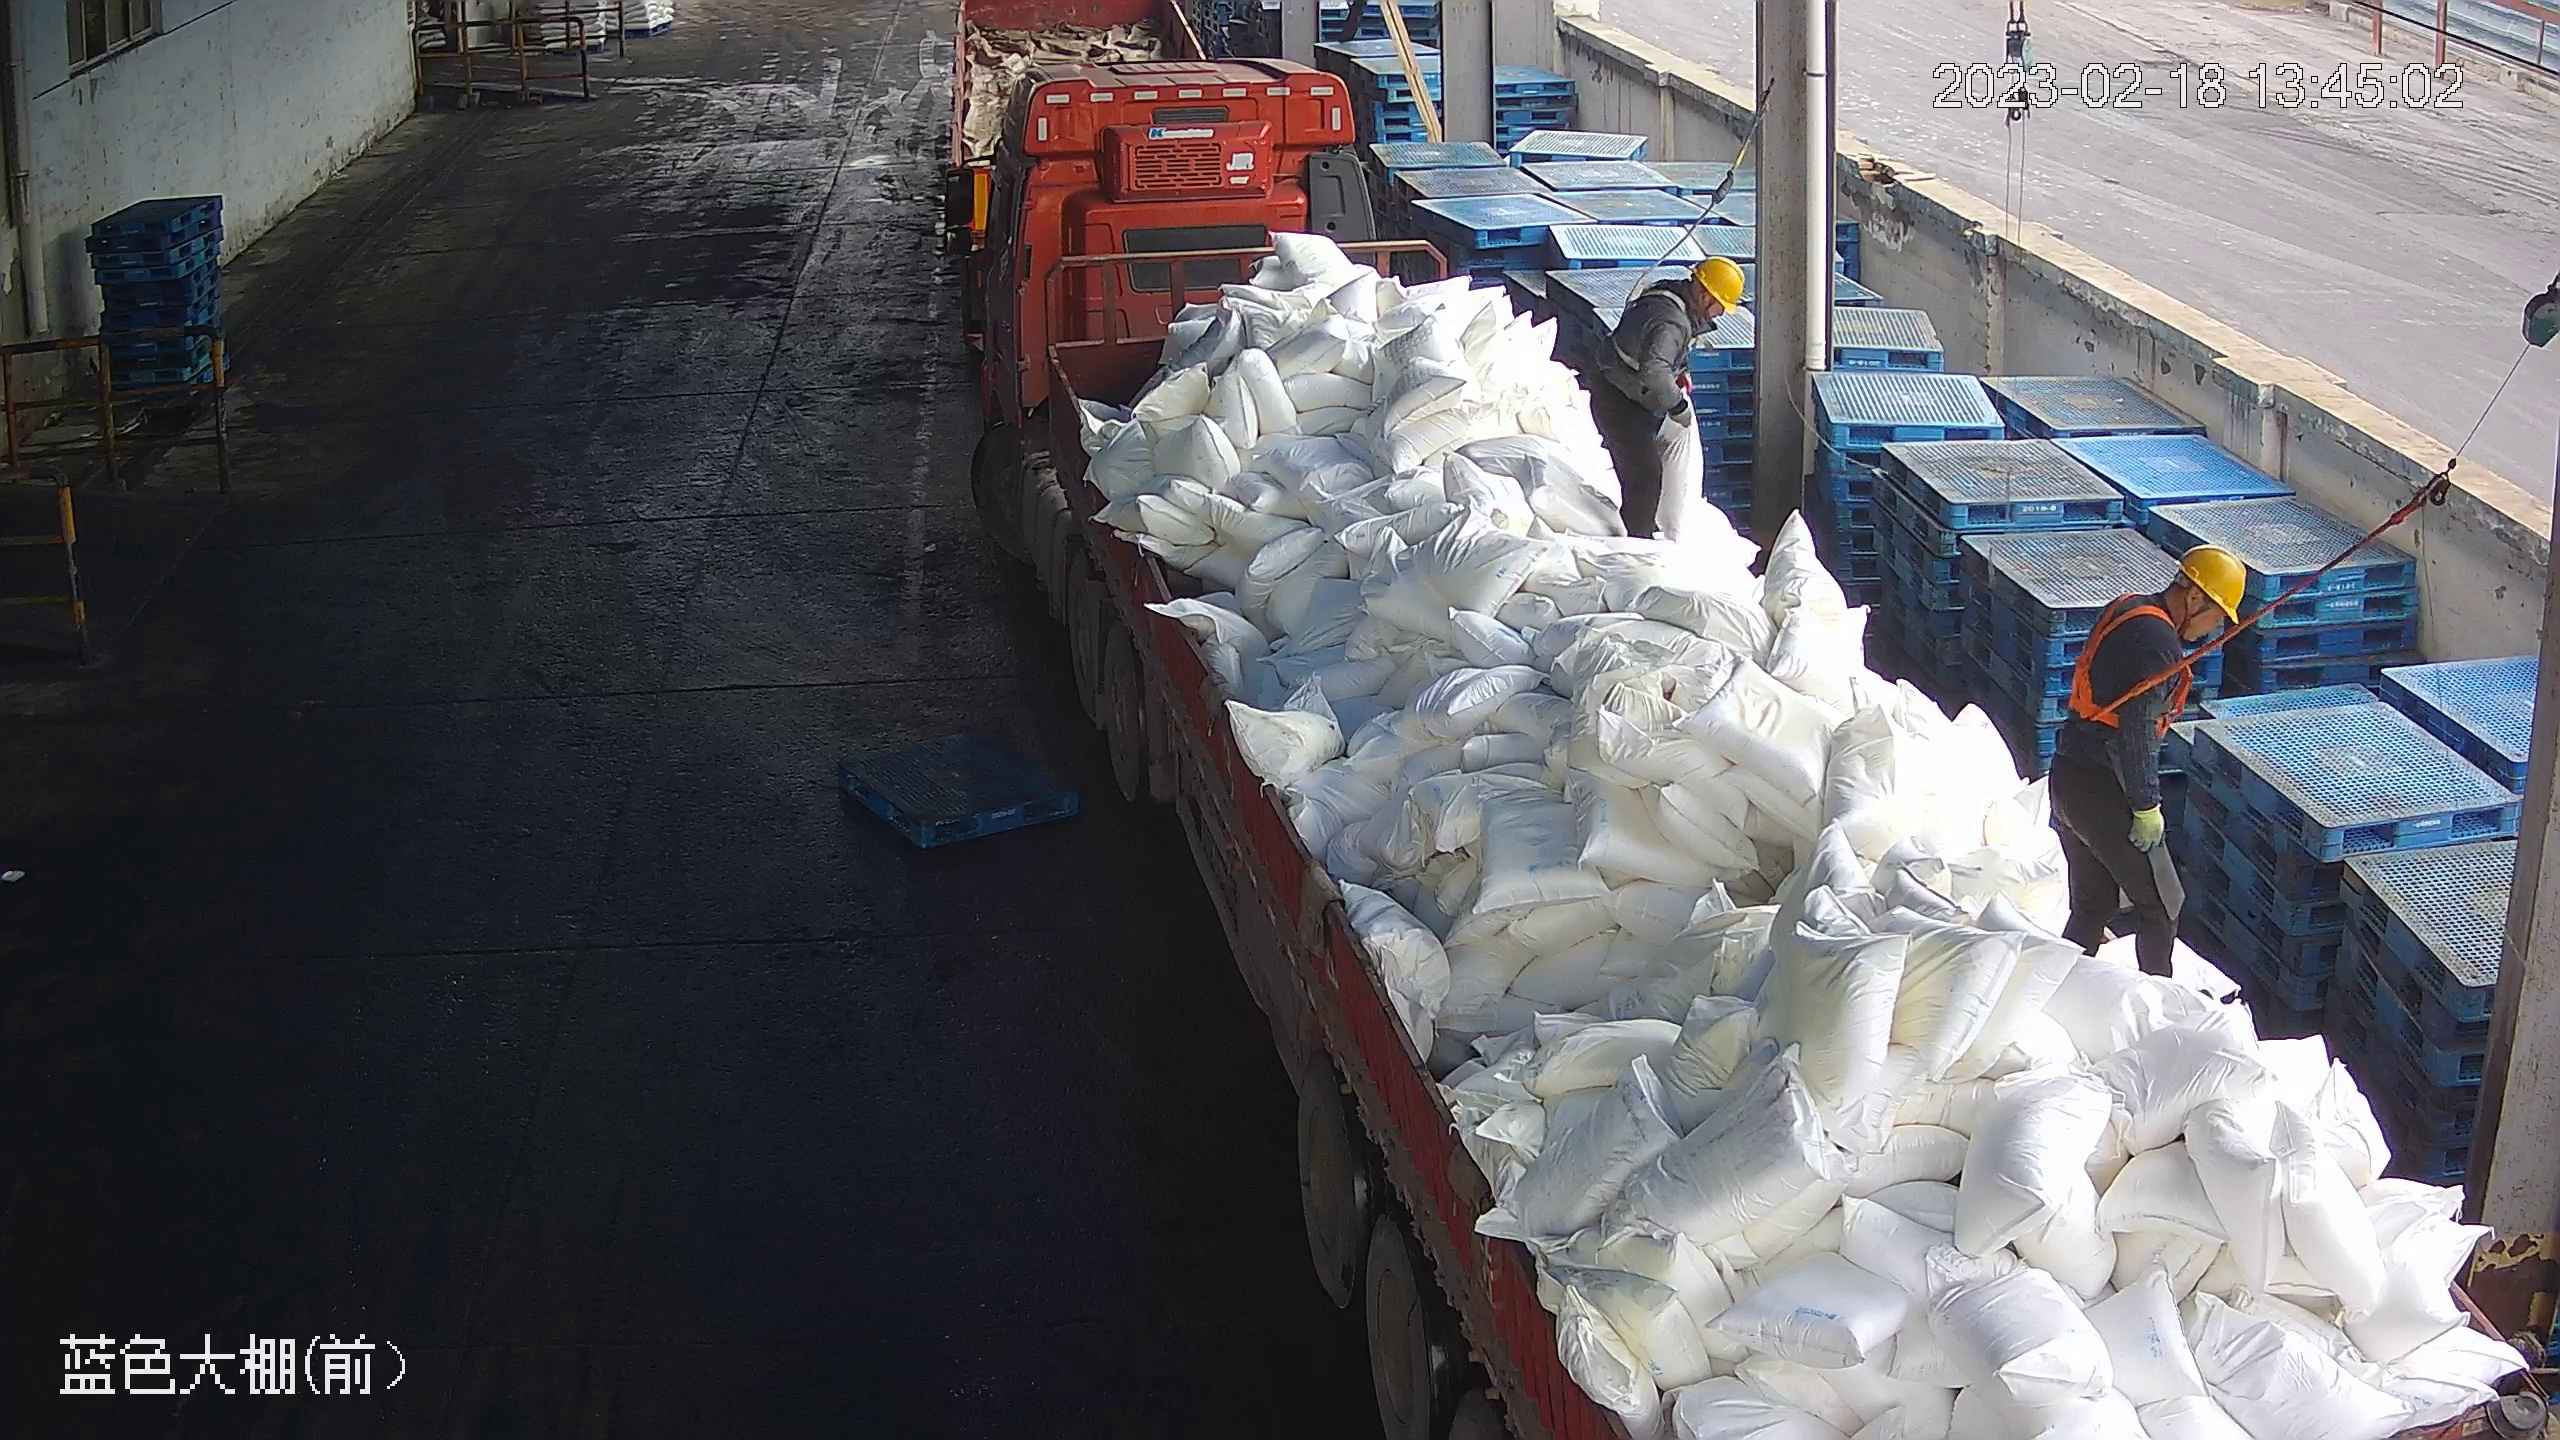belt: (2062, 596, 2205, 737), (1614, 284, 1686, 365)
head: (2083, 541, 2247, 685), (1631, 253, 1745, 357)
helmet: (2173, 540, 2248, 623), (1693, 253, 1746, 313)
people: (2043, 542, 2246, 983), (1588, 251, 1750, 542)
truck: (936, 57, 2557, 1440)
